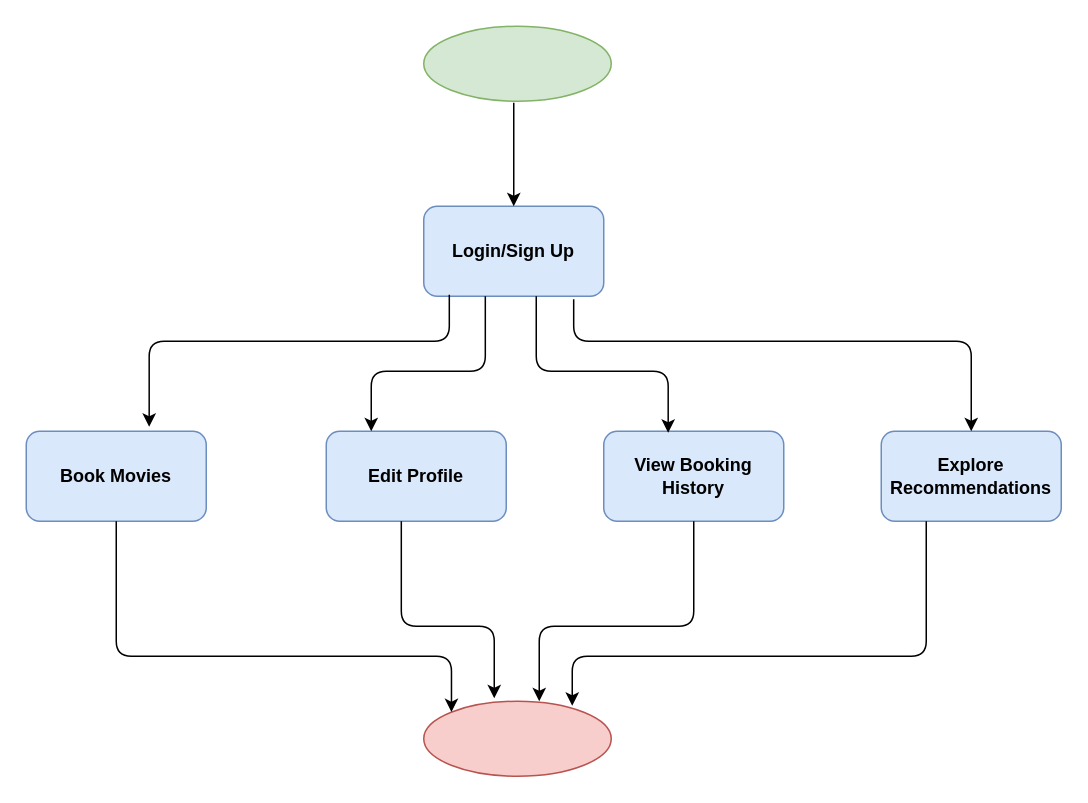
This 1088x803 diagram has some shape labels left out. The shapes that lost their labels are listed below. From the top down, each one's centre as x and y in pixels, then its label:
(516,63): Start
(516,738): Exit
